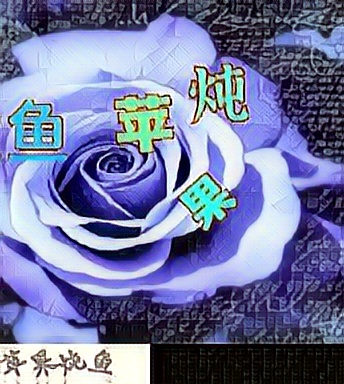B9FB: (177, 169, 240, 236)
C6BB: (111, 89, 174, 156)
D3E3: (4, 94, 67, 161)
ECC0: (186, 61, 249, 128)
